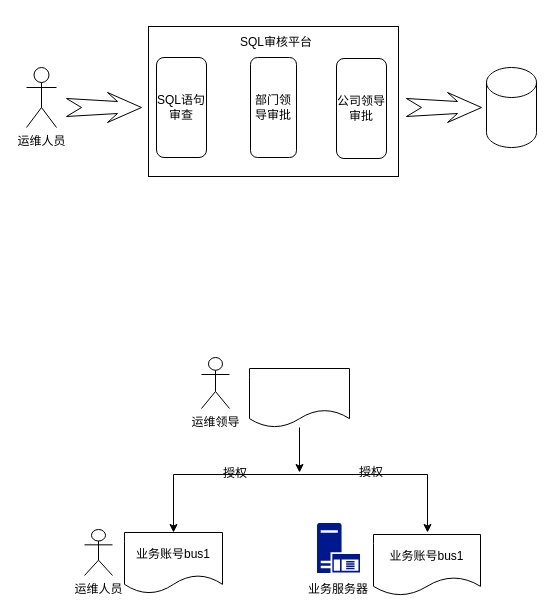
Image size: 555x615. Some labels were removed from this diagram. The box of each missing label's shape, as (x1, y1, x2, y2) in pixels:
DataBase: (486, 66, 536, 148)
管理账号SA: (248, 368, 350, 428)
